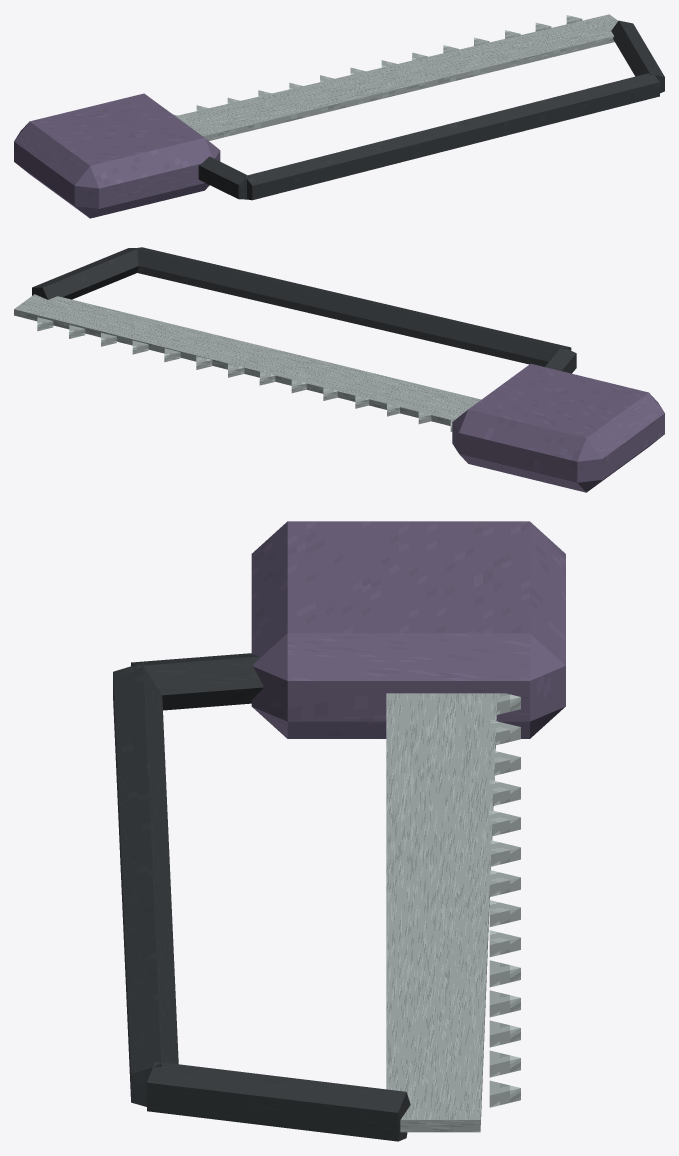
The model's file is hacksaw.glb.
3 views of the same model, one above another, from view 1: azimuth 30°, elevation 25°; view 2: azimuth 150°, elevation 25°; view 3: azimuth 270°, elevation 25° (orthographic). The views are drawn at different scales.
Parts seen in each view (by area): view 1: block_handle, block_toothed blade, block_bow frame 1, block_bow frame 2, block_bow frame 0; view 2: block_handle, block_toothed blade, block_bow frame 1, block_bow frame 2, block_bow frame 0; view 3: block_handle, block_toothed blade, block_bow frame 1, block_bow frame 2, block_bow frame 0.
Part boxes in pixels (<box>): block_handle: <box>14,93,220,218</box>; block_toothed blade: <box>175,14,617,140</box>; block_bow frame 1: <box>244,72,659,200</box>; block_bow frame 2: <box>611,20,664,93</box>; block_bow frame 0: <box>198,156,250,199</box>; block_handle: <box>452,363,664,492</box>; block_toothed blade: <box>14,294,481,425</box>; block_bow frame 1: <box>134,247,571,366</box>; block_bow frame 2: <box>32,248,139,299</box>; block_bow frame 0: <box>545,346,576,373</box>; block_handle: <box>251,521,565,738</box>; block_toothed blade: <box>386,693,497,1132</box>; block_bow frame 1: <box>113,663,178,1106</box>; block_bow frame 2: <box>147,1061,410,1141</box>; block_bow frame 0: <box>131,653,263,710</box>.
Bounding box in the file's own units: 0.3 × 0.0259 × 0.1003.
Materials: 1 (1 with a texture image).
